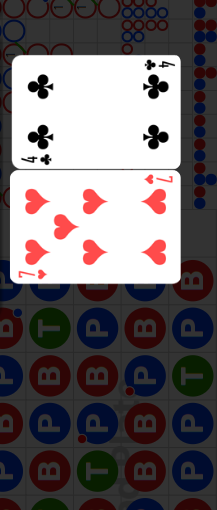4C: (142, 59, 175, 73)
7H: (142, 174, 173, 187)
